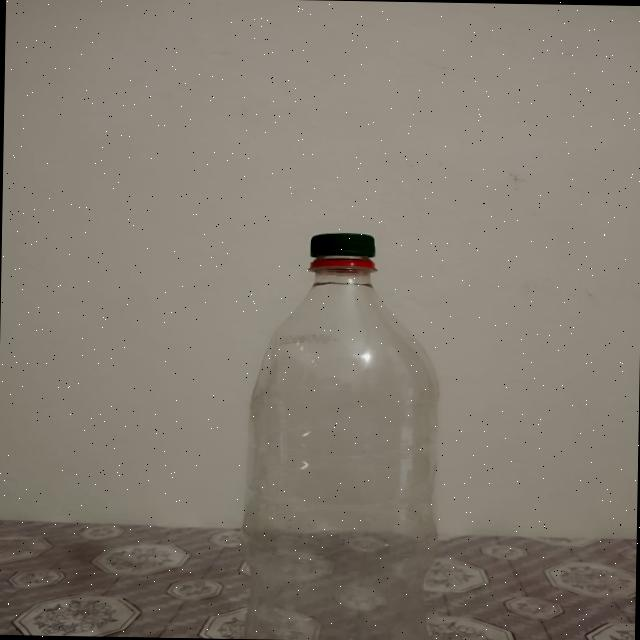bottle: (235, 230, 441, 640)
cap: (310, 232, 376, 268)
